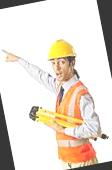helmet: (42, 38, 80, 63)
person: (33, 35, 108, 170)
